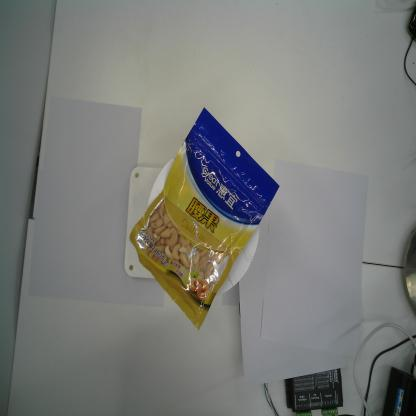Dried Fruit: (129, 106, 281, 331)
